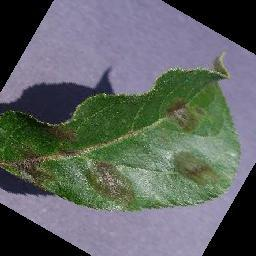apple healthy: (0, 50, 242, 212)
